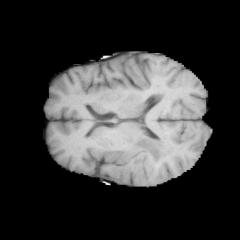glioma: (106, 135, 174, 185)
